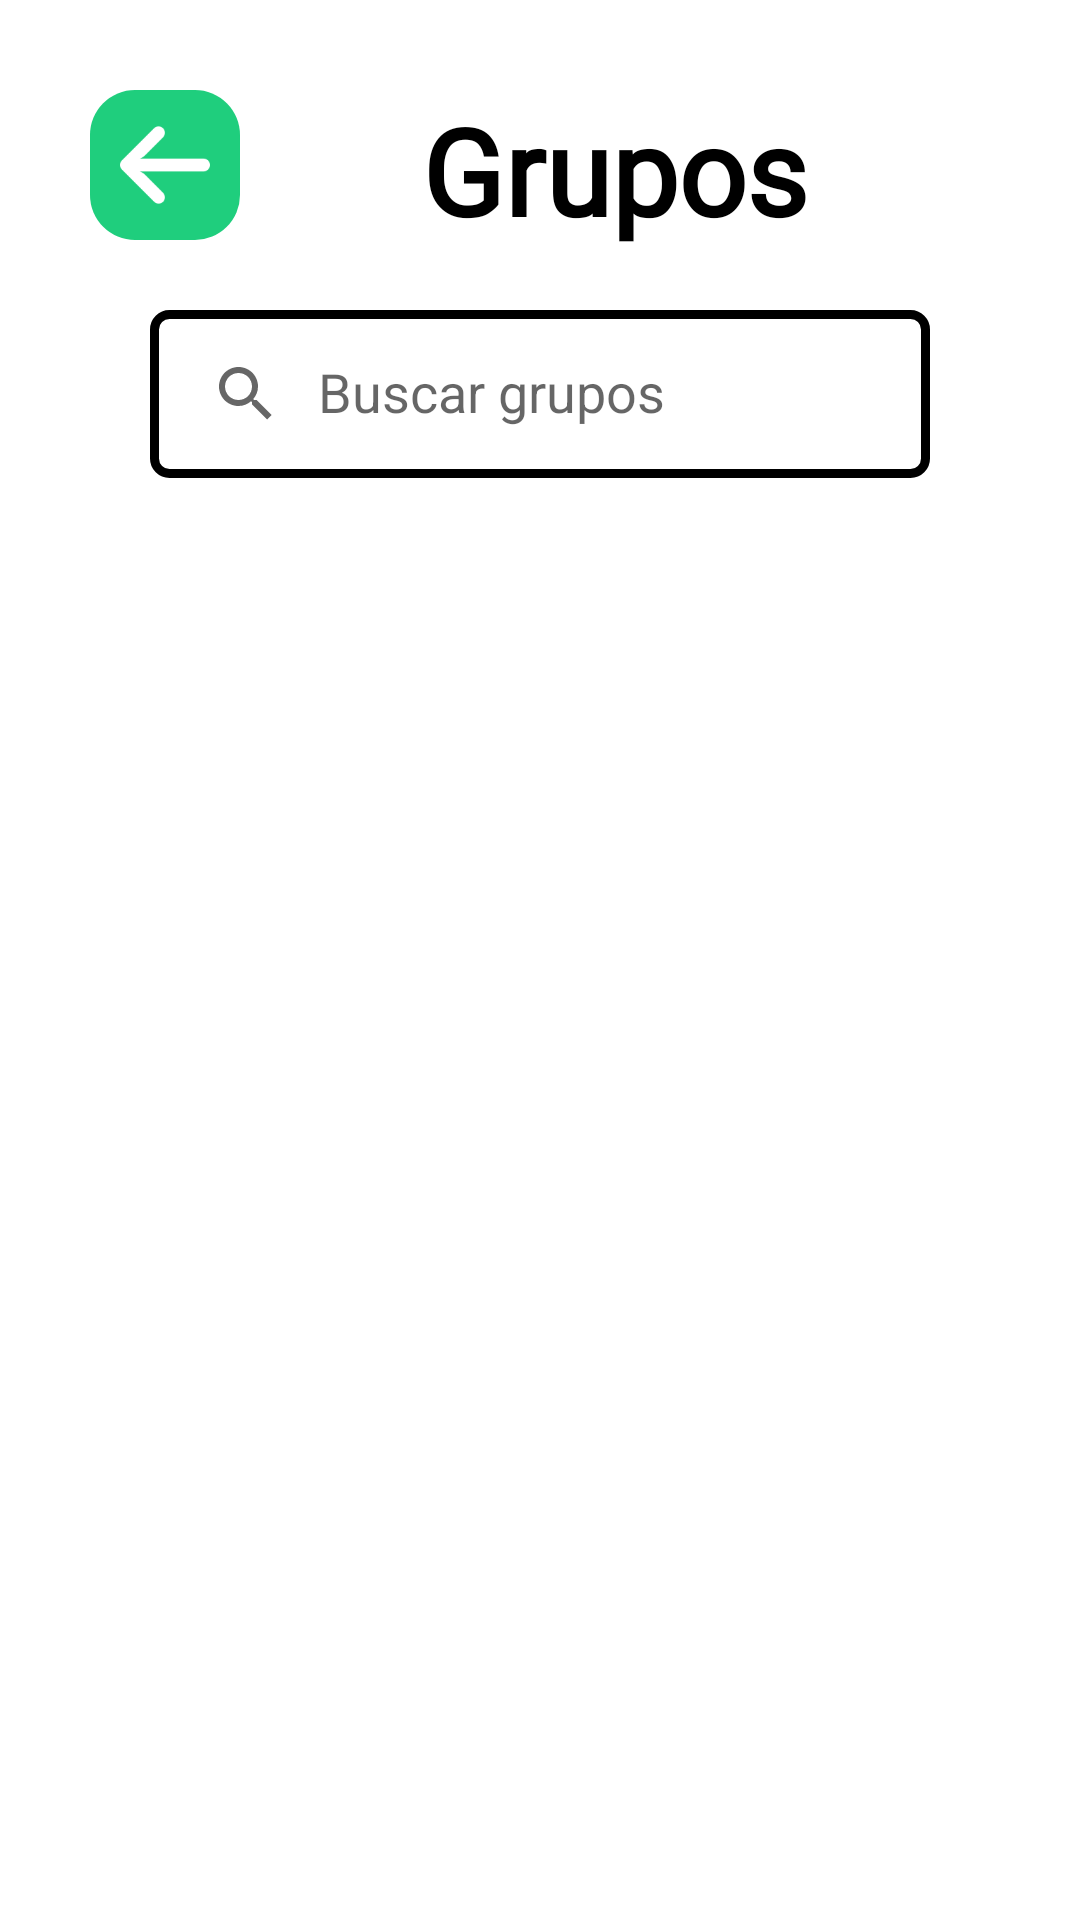

Locate icon controls on the screen. Image size 1080x1920, boxes as (x1, y1, x2, y2).
Volver: (90, 90, 240, 240)
